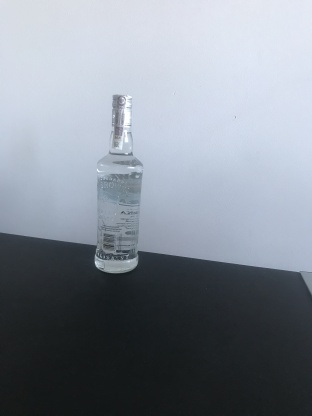nakretka: (109, 90, 134, 129)
